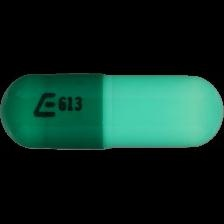16590-357: (0, 0, 224, 224)
